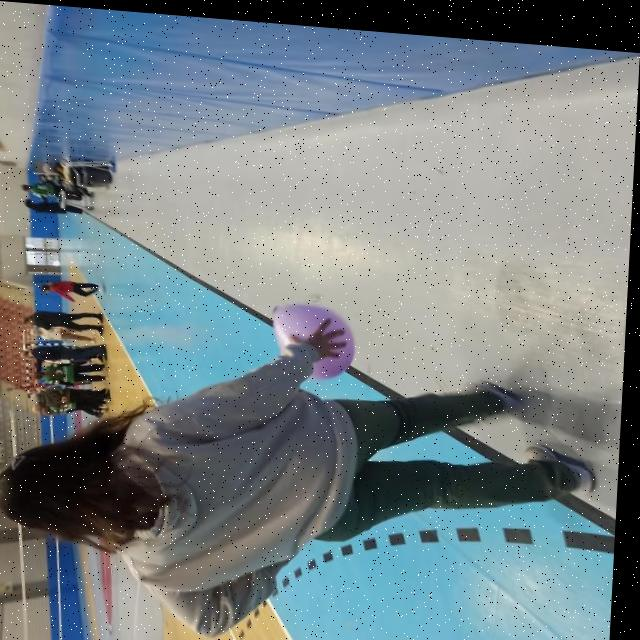balloon: (272, 294, 357, 374)
